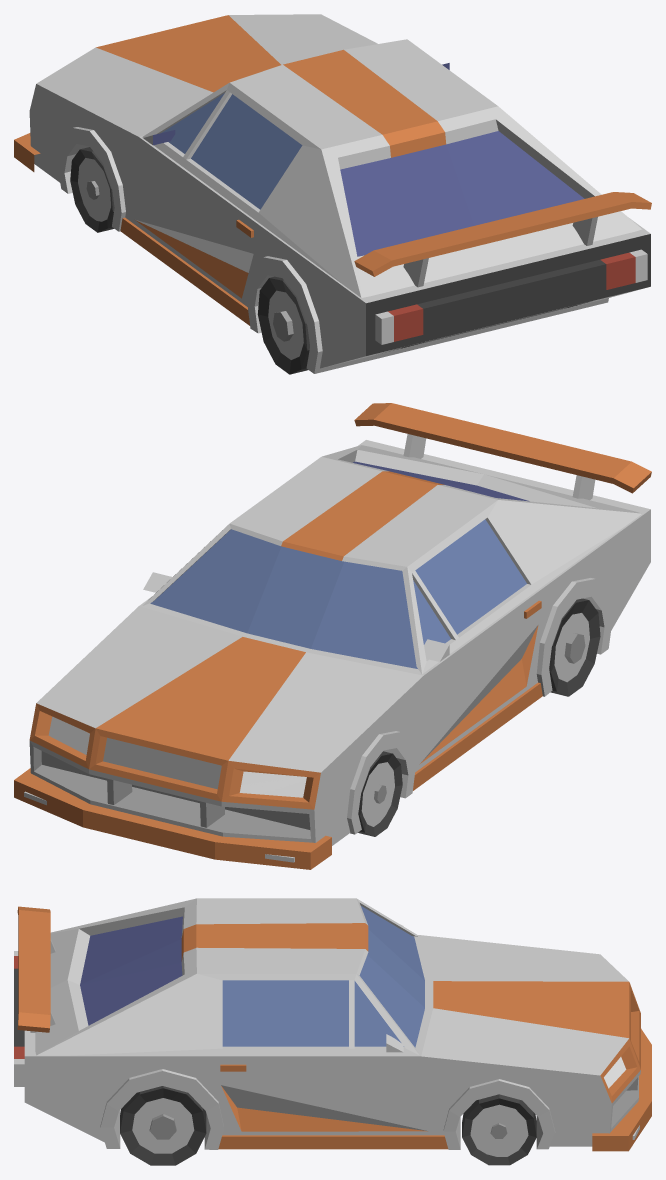
File: car3.glb
The picture shows the model from 3 angles, top to bottom: view 1: azimuth 30°, elevation 25°; view 2: azimuth 150°, elevation 25°; view 3: azimuth 270°, elevation 25°; orthographic projection. The views are drawn at different scales.
Visible parts, largest first — view 1: huitugou_2443_2622; view 2: huitugou_2443_2622; view 3: huitugou_2443_2622.
Boxes of the visible parts, x1,y1,x2,y2 form: huitugou_2443_2622: [14, 14, 651, 374]; huitugou_2443_2622: [14, 403, 651, 869]; huitugou_2443_2622: [14, 898, 651, 1165].
Bounding box in the file's own units: 0.6553 × 0.4046 × 1.4.
Materials: 1 (1 with a texture image).
